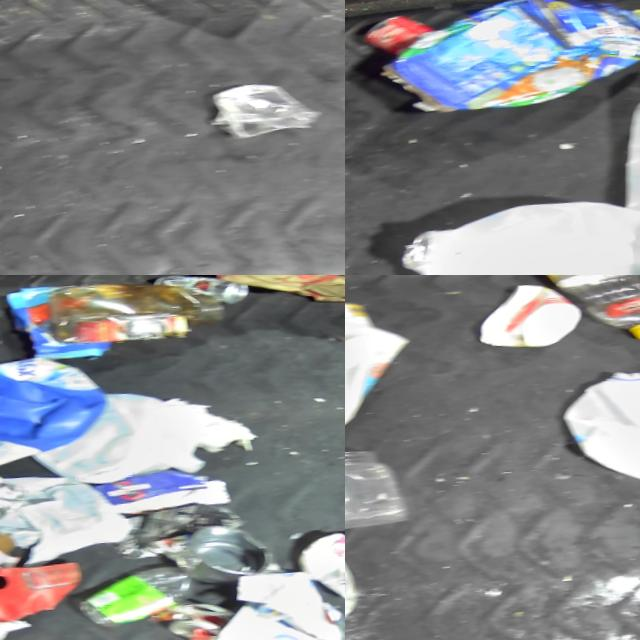can: (162, 514, 273, 584), (355, 8, 434, 56), (148, 275, 252, 308), (163, 595, 235, 639), (0, 457, 28, 524)
milk_jug: (388, 177, 640, 275), (345, 302, 424, 466), (550, 351, 640, 490)
non_white_jug: (0, 342, 115, 475), (289, 515, 345, 623)
plastic_bottle: (71, 557, 204, 629), (516, 275, 640, 347)
